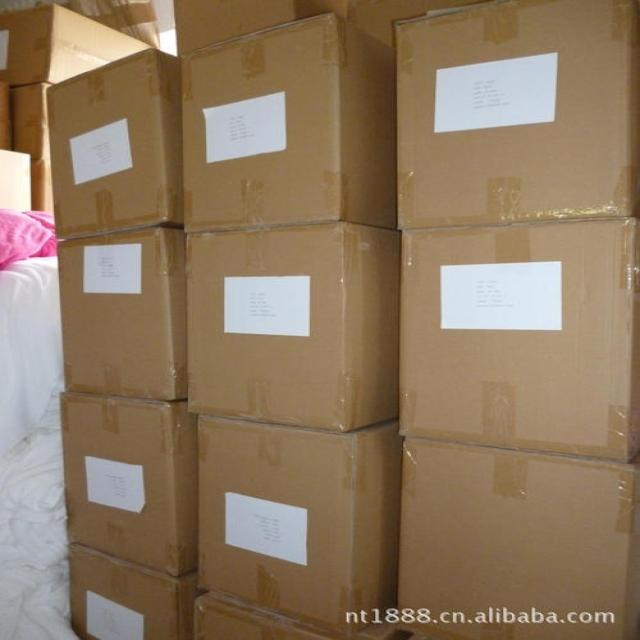box: (398, 215, 639, 464), (394, 0, 637, 230), (389, 436, 639, 639), (176, 14, 399, 231), (187, 220, 400, 432), (196, 415, 404, 632), (43, 47, 185, 240), (57, 389, 199, 573), (55, 222, 192, 402), (171, 0, 499, 53), (67, 543, 198, 638), (2, 3, 151, 86), (185, 588, 400, 638), (15, 82, 58, 213), (0, 73, 16, 151)
